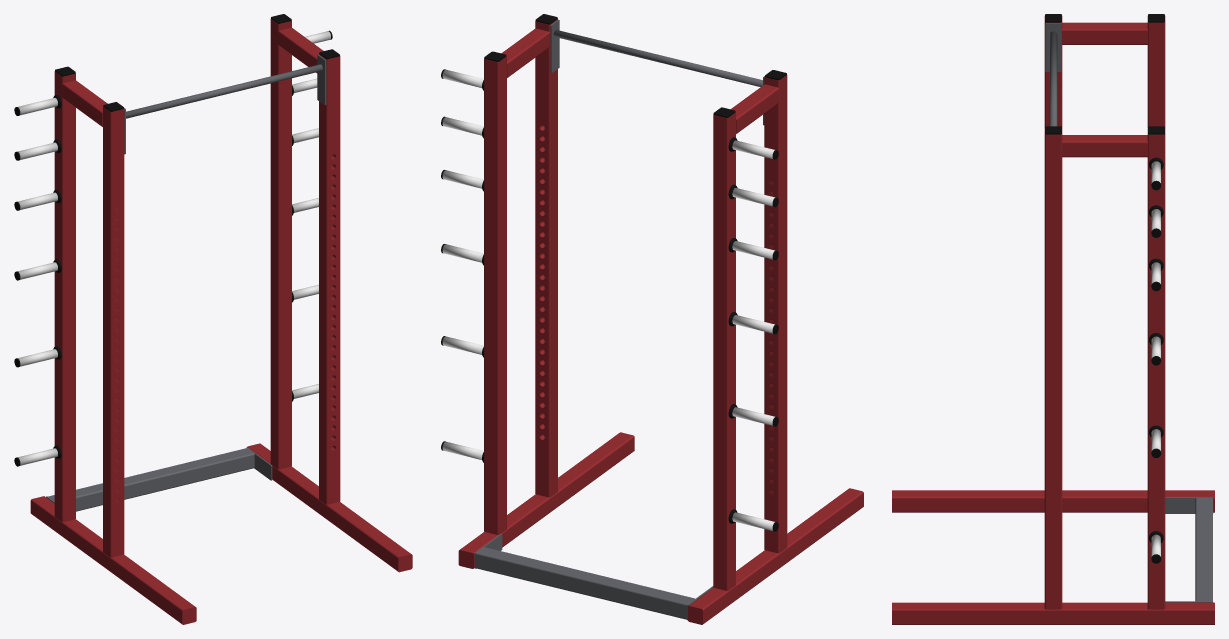
File: half-cage.glb
3 renders of one model, left to right at view 1: azimuth 30°, elevation 25°; view 2: azimuth 150°, elevation 25°; view 3: azimuth 270°, elevation 25°, orthographic. The views are drawn at different scales.
Parts seen in each view (by area): view 1: Cube, Cube.001, Cube.004, Cube.002, Left upright, Right upright, Bottom crossmember, Pull up bar, Cube.003, Cube.005; view 2: Cube.004, Cube.002, Cube, Cube.001, Bottom crossmember, Left upright, Right upright, Pull up bar, Cube.003, Cube.005; view 3: Cube.001, Right upright, Cube.004, Left upright, Cube.002, Cube.003, Cube.005, Bottom crossmember, Cube, Pull up bar, Cube.008, Cube.006.
Boxes of the visible parts, x1,y1,x2,y2 form: Cube: (103, 106, 124, 557); Cube.001: (319, 54, 340, 504); Cube.004: (270, 18, 291, 469); Cube.002: (54, 71, 75, 522); Left upright: (30, 496, 196, 624); Right upright: (247, 443, 412, 572); Bottom crossmember: (48, 448, 254, 511); Pull up bar: (126, 64, 322, 118); Cube.003: (62, 80, 107, 126); Cube.005: (278, 27, 323, 73); Cube.004: (484, 56, 506, 534); Cube.002: (713, 112, 735, 590); Cube: (764, 75, 787, 553); Cube.001: (535, 18, 557, 497); Bottom crossmember: (476, 547, 694, 619); Left upright: (688, 488, 863, 624); Right upright: (458, 432, 634, 568); Pull up bar: (553, 30, 762, 86); Cube.003: (731, 84, 779, 133); Cube.005: (501, 28, 549, 77); Cube.001: (1044, 128, 1062, 609); Right upright: (892, 602, 1214, 624); Cube.004: (1147, 128, 1165, 609); Left upright: (892, 490, 1214, 512); Cube.002: (1147, 16, 1165, 127); Cube.003: (1062, 22, 1147, 44); Cube.005: (1062, 135, 1147, 157); Bottom crossmember: (1195, 498, 1212, 601); Cube: (1044, 16, 1062, 127); Pull up bar: (1049, 31, 1057, 126); Cube.008: (1165, 497, 1213, 513); Cube.006: (1045, 23, 1061, 71).
Size of the model in its own units: 1.66 by 2.34 by 1.39.
